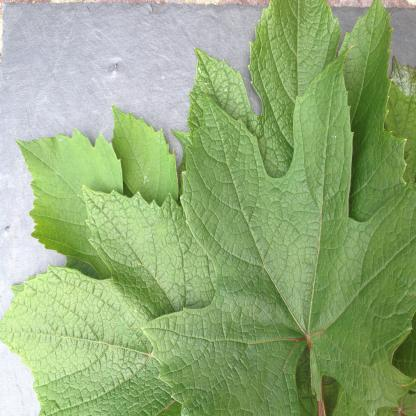grape leaf: (152, 60, 416, 416), (1, 185, 179, 416)
